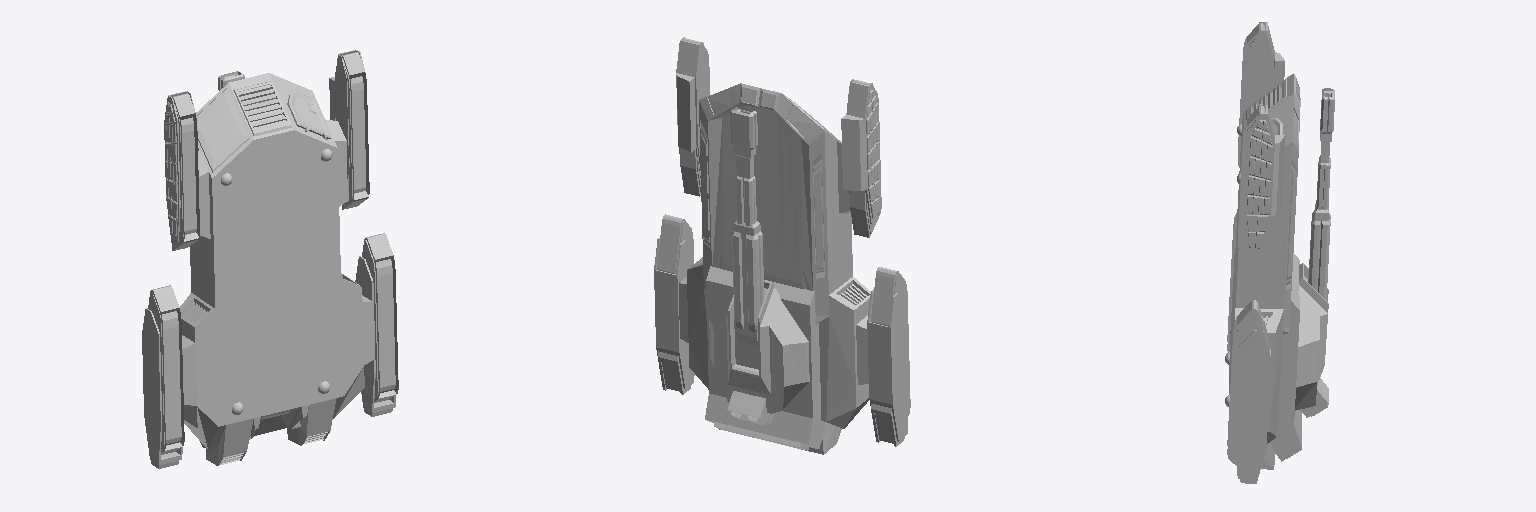
File: testTank2.obj
The picture shows the model from 3 angles: view 1: azimuth 30°, elevation 25°; view 2: azimuth 150°, elevation 25°; view 3: azimuth 270°, elevation 25°; orthographic projection.
Visible parts, largest first — view 1: Cube_Cube.001, Orugas, Orugas_2, Cubre_Orugas.000, Cubre_Orugas; view 2: Cube_Cube.001, Torreta, Cubre_Orugas.000, Centro, Cubre_Orugas, Orugas, Ca?on.001, Orugas_2, Ca?on, Ca?on.003, Ca?on.002; view 3: Cube_Cube.001, Cubre_Orugas, Cubre_Orugas.000, Torreta, Centro, Orugas, Orugas_2, Ca?on.001, Ca?on.002, Ca?on.003.
Boxes of the visible parts, x1,y1,x2,y2 form: Cube_Cube.001: [180, 73, 374, 465]; Orugas: [148, 233, 398, 454]; Orugas_2: [168, 52, 369, 250]; Cubre_Orugas.000: [142, 256, 395, 468]; Cubre_Orugas: [164, 50, 365, 241]; Cube_Cube.001: [679, 83, 870, 454]; Torreta: [709, 280, 809, 425]; Cubre_Orugas.000: [654, 238, 909, 446]; Centro: [705, 266, 825, 450]; Cubre_Orugas: [676, 37, 879, 223]; Orugas: [657, 214, 910, 415]; Ca?on.001: [732, 231, 763, 331]; Orugas_2: [680, 38, 881, 237]; Ca?on: [733, 109, 760, 345]; Ca?on.003: [730, 106, 757, 149]; Ca?on.002: [736, 176, 756, 225]; Cube_Cube.001: [1229, 74, 1300, 469]; Cubre_Orugas: [1244, 22, 1284, 253]; Cubre_Orugas.000: [1234, 320, 1270, 483]; Torreta: [1295, 263, 1328, 417]; Centro: [1270, 253, 1301, 461]; Orugas: [1227, 213, 1269, 464]; Orugas_2: [1238, 23, 1273, 266]; Ca?on.001: [1308, 210, 1330, 300]; Ca?on.002: [1316, 157, 1330, 209]; Ca?on.003: [1320, 88, 1334, 133].
Bounding box in the file's own units: 1.13 × 1.72 × 0.4557.